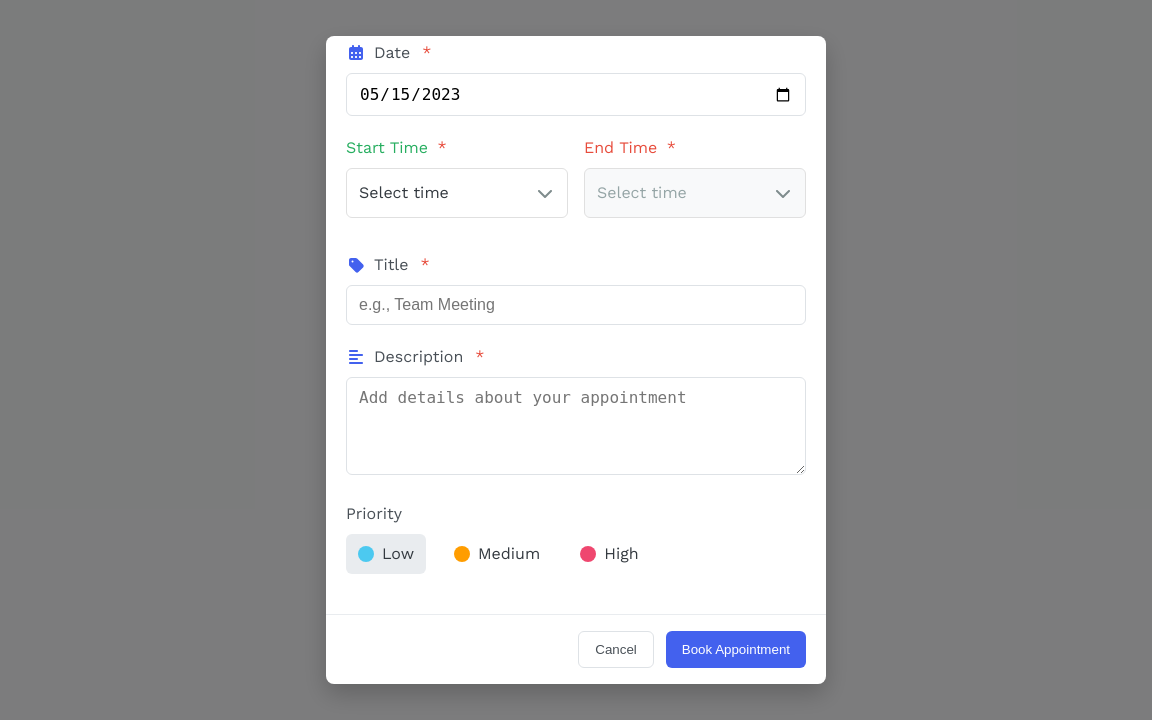
Test case: AddAppointmentModal Component › validates form and shows error messages
(page scrolled)
Try to save without filling required fields
Click the button "Book Appointment" at (736, 650), box [666,631,806,668]
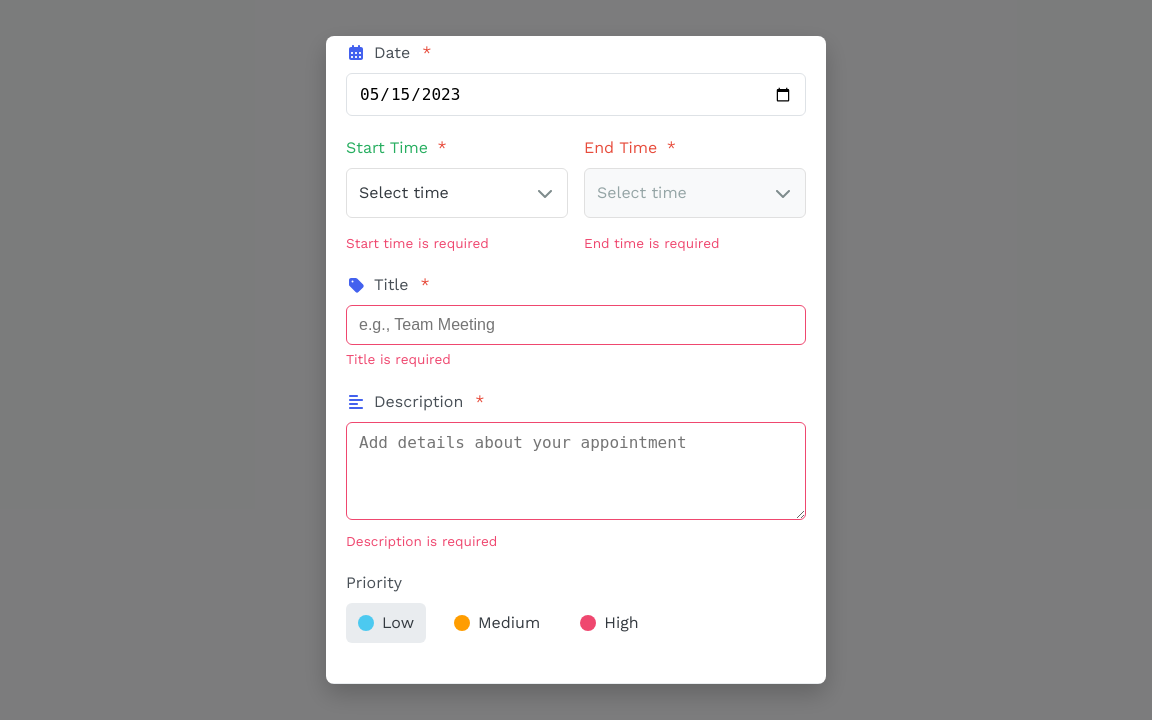
Expected: the text "Title is required" is shown, [346,351,451,367]
Expected: the text "Description is required" is shown, [346,533,497,549]
Expected: the text "Start time is required" is shown, [346,235,489,251]
